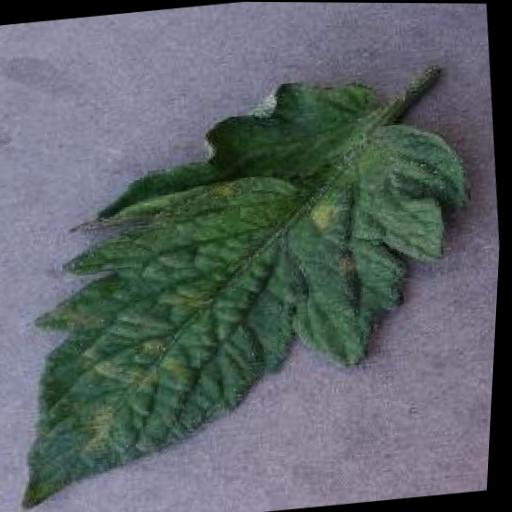Leaf Mold: (0, 61, 509, 512)
